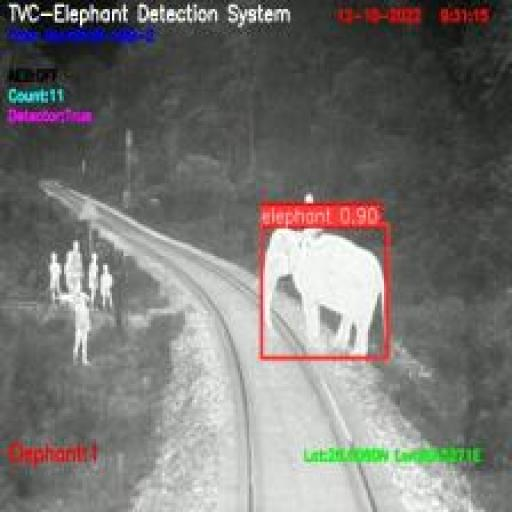Elephant: (260, 224, 388, 358)
